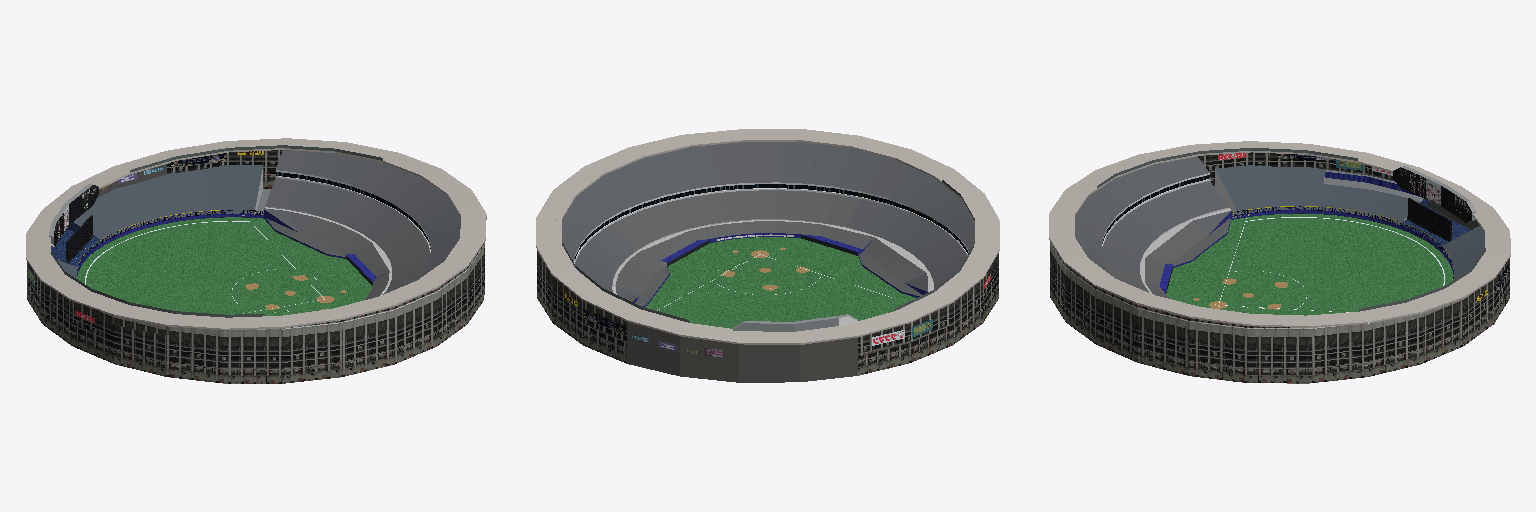
3 views of the same model, side by side, from view 1: azimuth 30°, elevation 25°; view 2: azimuth 150°, elevation 25°; view 3: azimuth 270°, elevation 25° (orthographic).
Visible parts, largest first — view 1: ZOZO_Marine_Stadium_Main-vetoutside4, ZOZO_Marine_Stadium_Main-grass_texture2, ZOZO_Marine_Stadium_Main-contex, ZOZO_Marine_Stadium_Main-seating_attendance3_blue, ZOZO_Marine_Stadium_Main-seating_attendance2_blue, ZOZO_Marine_Stadium_Main-seating_attendance4_blue, ZOZO_Marine_Stadium_Main-lights, ZOZO_Marine_Stadium_Main-Formica_Laminate_Dark, ZOZO_Marine_Stadium_Main-Brick_Common_Bond1, ZOZO_Marine_Stadium_Main-Polished_Concrete_Old, ZOZO_Marine_Stadium_Main-Formica_Blue, ZOZO_Marine_Stadium_Main-black_windows; view 2: ZOZO_Marine_Stadium_Main-seating_attendance3_blue, ZOZO_Marine_Stadium_Main-contex, ZOZO_Marine_Stadium_Main-grass_texture2, ZOZO_Marine_Stadium_Main-seating_attendance4_blue, ZOZO_Marine_Stadium_Main-vetoutside4, ZOZO_Marine_Stadium_Main-Asphalt_Stripe_Texture, ZOZO_Marine_Stadium_Main-Polished_Concrete_Old, ZOZO_Marine_Stadium_Main-black_windows, ZOZO_Marine_Stadium_Main-Cladding_Stucco_White, ZOZO_Marine_Stadium_Main-Metal_Rough, ZOZO_Marine_Stadium_Main-lights, ZOZO_Marine_Stadium_Main-Material10; view 3: ZOZO_Marine_Stadium_Main-vetoutside4, ZOZO_Marine_Stadium_Main-grass_texture2, ZOZO_Marine_Stadium_Main-contex, ZOZO_Marine_Stadium_Main-seating_attendance3_blue, ZOZO_Marine_Stadium_Main-seating_attendance2_blue, ZOZO_Marine_Stadium_Main-seating_attendance4_blue, ZOZO_Marine_Stadium_Main-Formica_Laminate_Dark, ZOZO_Marine_Stadium_Main-lights, ZOZO_Marine_Stadium_Main-Brick_Common_Bond1, ZOZO_Marine_Stadium_Main-Polished_Concrete_Old, ZOZO_Marine_Stadium_Main-Blacktop_Old_01, ZOZO_Marine_Stadium_Main-Cladding_Stucco_White (+1 smaller).
Part boxes in pixels (bbox=[...]): ZOZO_Marine_Stadium_Main-vetoutside4: bbox=[27, 150, 484, 383]; ZOZO_Marine_Stadium_Main-grass_texture2: bbox=[77, 217, 371, 315]; ZOZO_Marine_Stadium_Main-contex: bbox=[26, 138, 486, 329]; ZOZO_Marine_Stadium_Main-seating_attendance3_blue: bbox=[264, 150, 460, 276]; ZOZO_Marine_Stadium_Main-seating_attendance2_blue: bbox=[57, 165, 262, 278]; ZOZO_Marine_Stadium_Main-seating_attendance4_blue: bbox=[292, 217, 430, 299]; ZOZO_Marine_Stadium_Main-lights: bbox=[51, 145, 382, 317]; ZOZO_Marine_Stadium_Main-Formica_Laminate_Dark: bbox=[54, 194, 92, 260]; ZOZO_Marine_Stadium_Main-Brick_Common_Bond1: bbox=[77, 214, 345, 275]; ZOZO_Marine_Stadium_Main-Polished_Concrete_Old: bbox=[254, 170, 430, 253]; ZOZO_Marine_Stadium_Main-Formica_Blue: bbox=[51, 222, 101, 266]; ZOZO_Marine_Stadium_Main-black_windows: bbox=[276, 172, 430, 248]; ZOZO_Marine_Stadium_Main-seating_attendance3_blue: bbox=[562, 142, 974, 306]; ZOZO_Marine_Stadium_Main-contex: bbox=[536, 129, 999, 344]; ZOZO_Marine_Stadium_Main-grass_texture2: bbox=[645, 237, 915, 328]; ZOZO_Marine_Stadium_Main-seating_attendance4_blue: bbox=[605, 190, 926, 296]; ZOZO_Marine_Stadium_Main-vetoutside4: bbox=[537, 250, 998, 375]; ZOZO_Marine_Stadium_Main-Asphalt_Stripe_Texture: bbox=[627, 322, 938, 382]; ZOZO_Marine_Stadium_Main-Polished_Concrete_Old: bbox=[574, 182, 968, 263]; ZOZO_Marine_Stadium_Main-black_windows: bbox=[575, 184, 968, 258]; ZOZO_Marine_Stadium_Main-Cladding_Stucco_White: bbox=[612, 219, 933, 294]; ZOZO_Marine_Stadium_Main-Metal_Rough: bbox=[733, 314, 857, 331]; ZOZO_Marine_Stadium_Main-lights: bbox=[562, 180, 974, 322]; ZOZO_Marine_Stadium_Main-Material10: bbox=[633, 235, 927, 302]; ZOZO_Marine_Stadium_Main-vetoutside4: bbox=[1050, 152, 1509, 383]; ZOZO_Marine_Stadium_Main-grass_texture2: bbox=[1166, 214, 1453, 315]; ZOZO_Marine_Stadium_Main-contex: bbox=[1049, 141, 1510, 327]; ZOZO_Marine_Stadium_Main-seating_attendance3_blue: bbox=[1075, 156, 1230, 275]; ZOZO_Marine_Stadium_Main-seating_attendance2_blue: bbox=[1215, 165, 1484, 279]; ZOZO_Marine_Stadium_Main-seating_attendance4_blue: bbox=[1104, 218, 1230, 298]; ZOZO_Marine_Stadium_Main-Formica_Laminate_Dark: bbox=[1393, 168, 1454, 239]; ZOZO_Marine_Stadium_Main-lights: bbox=[1097, 148, 1485, 311]; ZOZO_Marine_Stadium_Main-Brick_Common_Bond1: bbox=[1173, 210, 1453, 274]; ZOZO_Marine_Stadium_Main-Polished_Concrete_Old: bbox=[1102, 169, 1324, 246]; ZOZO_Marine_Stadium_Main-Blacktop_Old_01: bbox=[1231, 170, 1423, 217]; ZOZO_Marine_Stadium_Main-Cladding_Stucco_White: bbox=[1140, 208, 1230, 294].
Size of the model in its own units: 219 by 31.68 by 219.
42 materials, 24 textured.